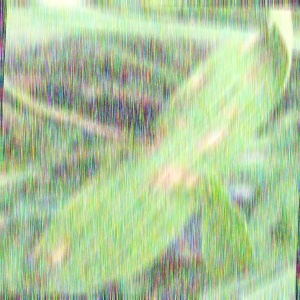Brown_Spot: (197, 119, 239, 154), (181, 65, 214, 101), (44, 233, 73, 268), (233, 29, 267, 53), (215, 97, 244, 125), (171, 105, 197, 133), (236, 60, 260, 85), (186, 92, 212, 115), (185, 169, 203, 197), (150, 162, 172, 184), (245, 78, 270, 97), (255, 45, 275, 65), (169, 165, 186, 185)
